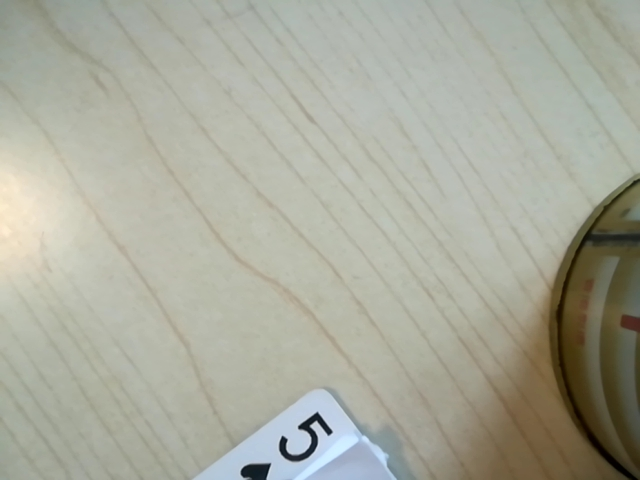ht 5: (220, 403, 361, 479)
